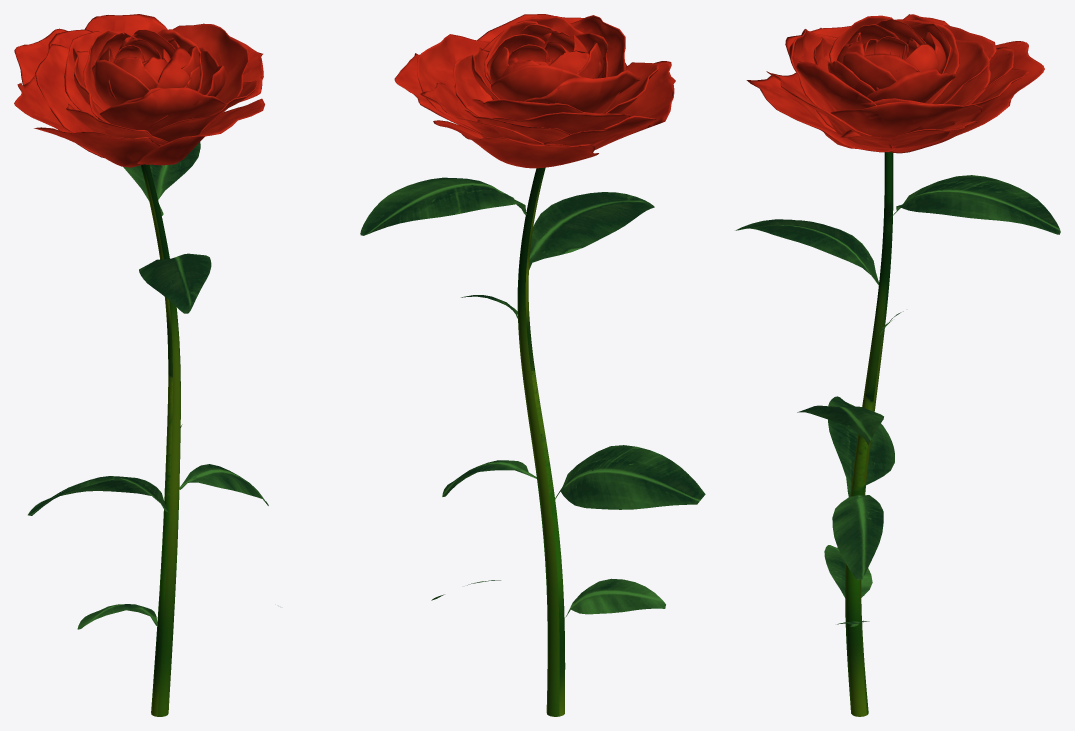
File: flower.glb
3 views of the same model, side by side, from view 1: azimuth 30°, elevation 25°; view 2: azimuth 150°, elevation 25°; view 3: azimuth 270°, elevation 25° (orthographic). The views are drawn at different scales.
Parts seen in each view (by area): view 1: FLOWER; view 2: FLOWER; view 3: FLOWER.
Boxes of the visible parts, x1,y1,x2,y2 form: FLOWER: [14, 14, 268, 716]; FLOWER: [360, 14, 705, 716]; FLOWER: [735, 14, 1060, 716].
Size of the model in its own units: 0.4408 by 0.9985 by 0.4354.
Materials: 3 (3 with a texture image).
